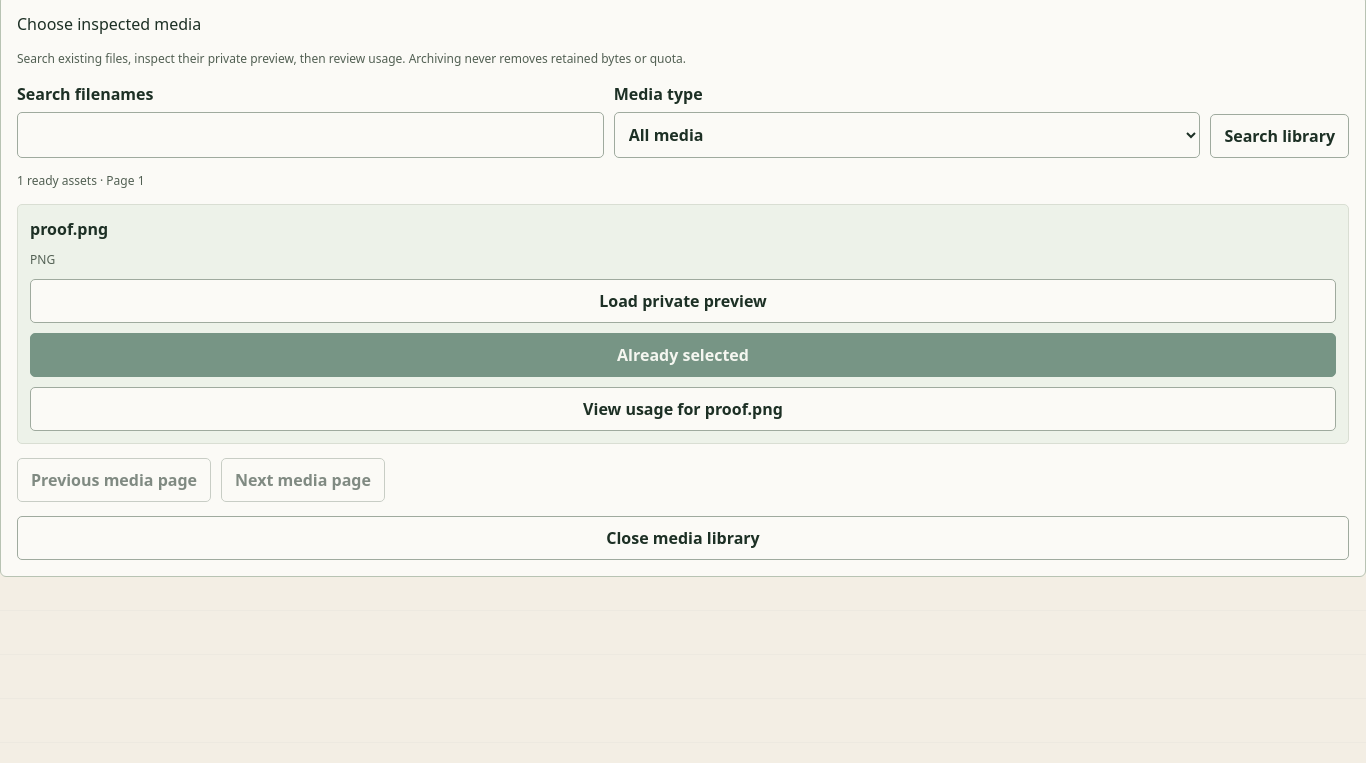
Scenario: a locally selected asset cannot be archived from the picker
The width and height of the screenshot is (1366, 763).
Click the button "View usage for proof.png" at (683, 409), box [30,387,1336,431]
(page scrolled)
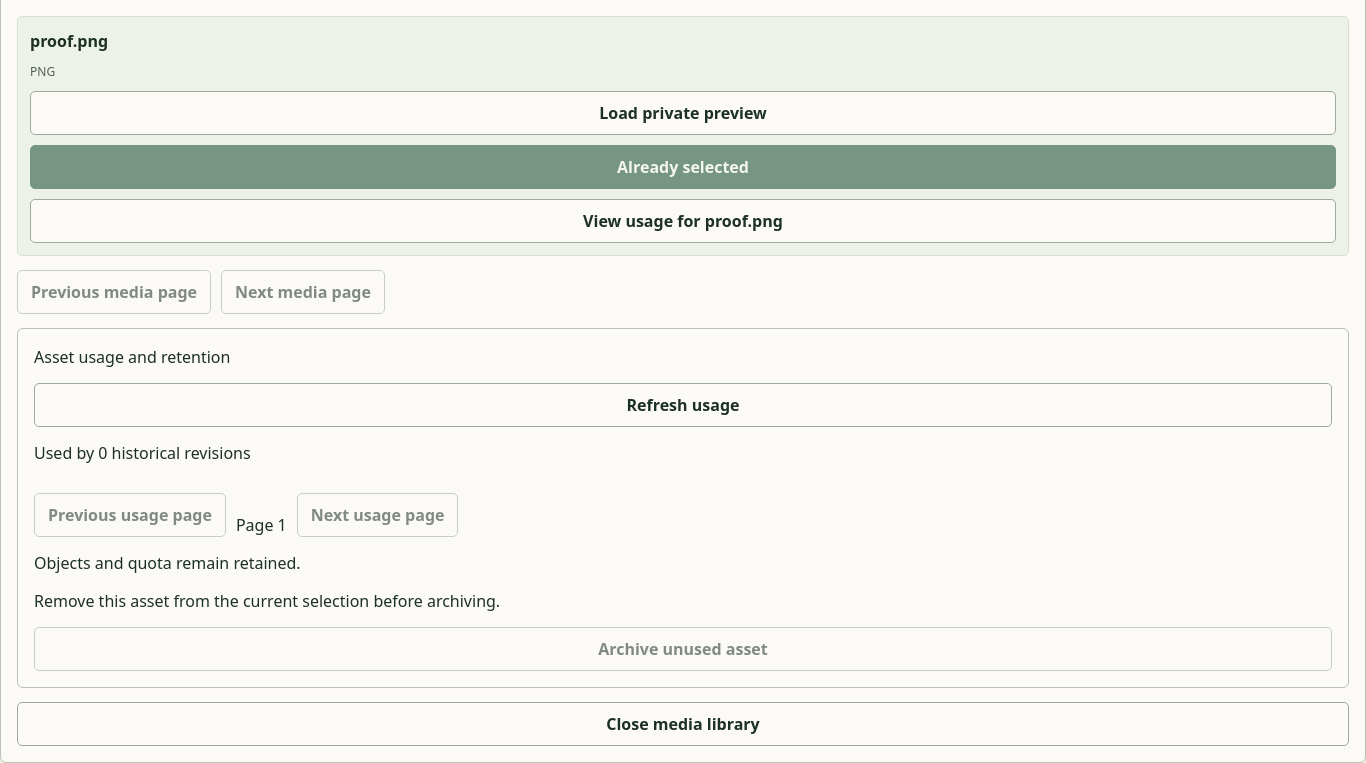
Result: the button "Archive unused asset" is disabled at [34,627,1332,671]
